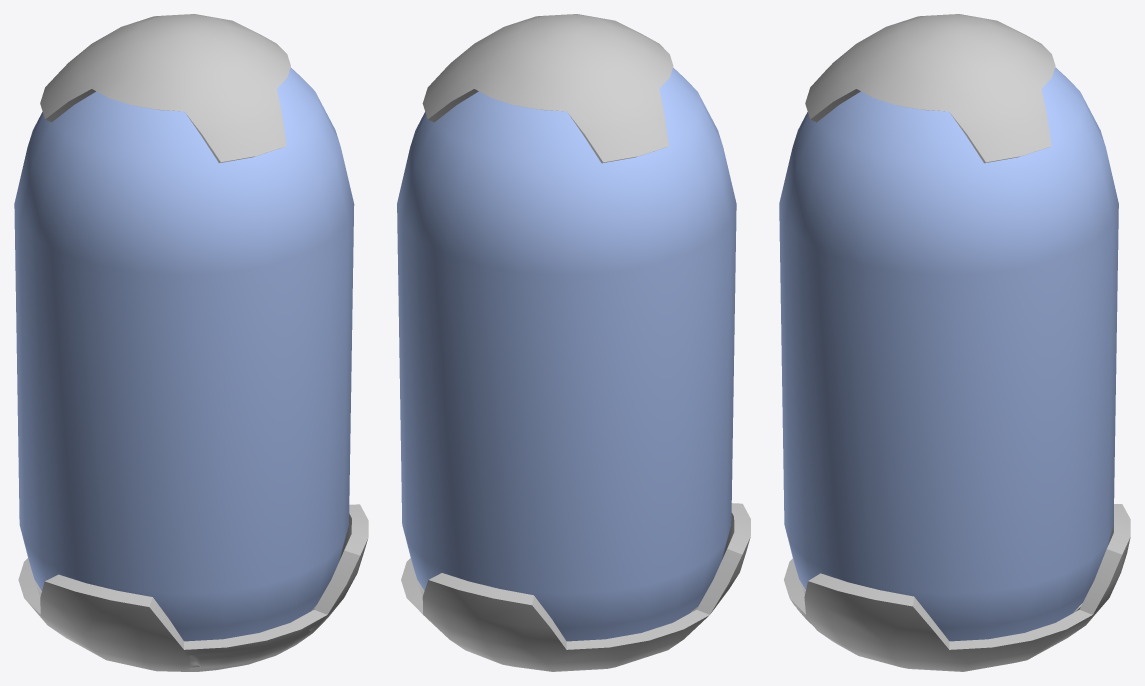
File: incubator_super_geometry.obj
3 views of the same model, side by side, from view 1: azimuth 30°, elevation 25°; view 2: azimuth 150°, elevation 25°; view 3: azimuth 270°, elevation 25° (orthographic).
Visible parts, largest first — view 1: incubator_super_geometry_1_incubator_super_geometry_1_Incubator, incubator_super_geometry_0_incubator_super_geometry_0_Incubator; view 2: incubator_super_geometry_1_incubator_super_geometry_1_Incubator, incubator_super_geometry_0_incubator_super_geometry_0_Incubator; view 3: incubator_super_geometry_1_incubator_super_geometry_1_Incubator, incubator_super_geometry_0_incubator_super_geometry_0_Incubator.
Part boxes in pixels (x1,y1,x2,y2): incubator_super_geometry_1_incubator_super_geometry_1_Incubator: [14, 67, 354, 641]; incubator_super_geometry_0_incubator_super_geometry_0_Incubator: [18, 14, 368, 671]; incubator_super_geometry_1_incubator_super_geometry_1_Incubator: [397, 67, 736, 641]; incubator_super_geometry_0_incubator_super_geometry_0_Incubator: [401, 14, 750, 671]; incubator_super_geometry_1_incubator_super_geometry_1_Incubator: [779, 67, 1118, 641]; incubator_super_geometry_0_incubator_super_geometry_0_Incubator: [784, 14, 1130, 671].
Size of the model in its own units: 0.7448 by 1.36 by 0.7191.
